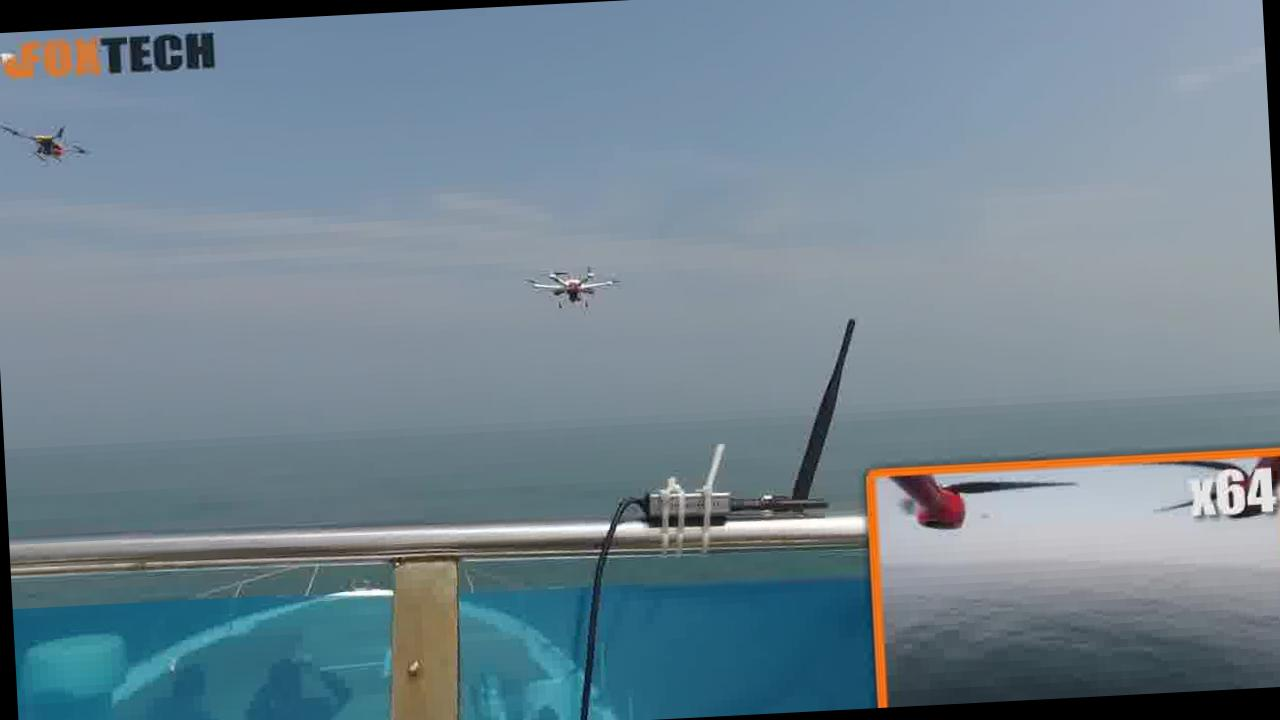drone: (496, 244, 634, 320)
